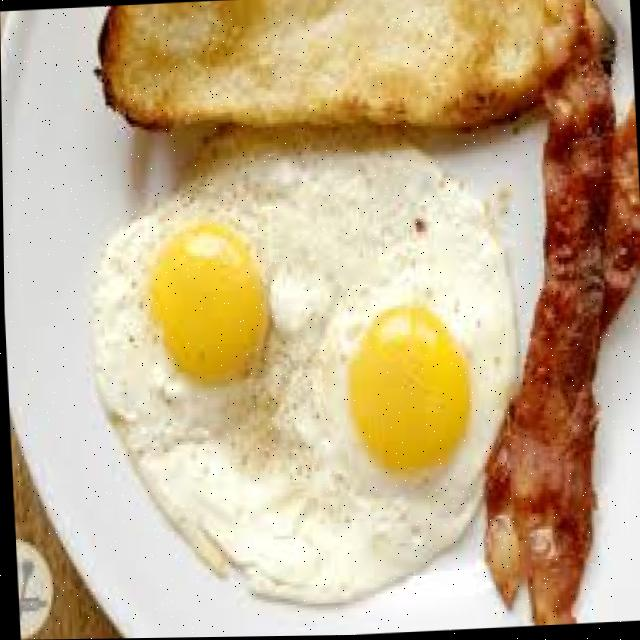Bacon: (483, 2, 640, 624)
Bread: (98, 0, 579, 128)
Egg: (89, 136, 519, 603)
